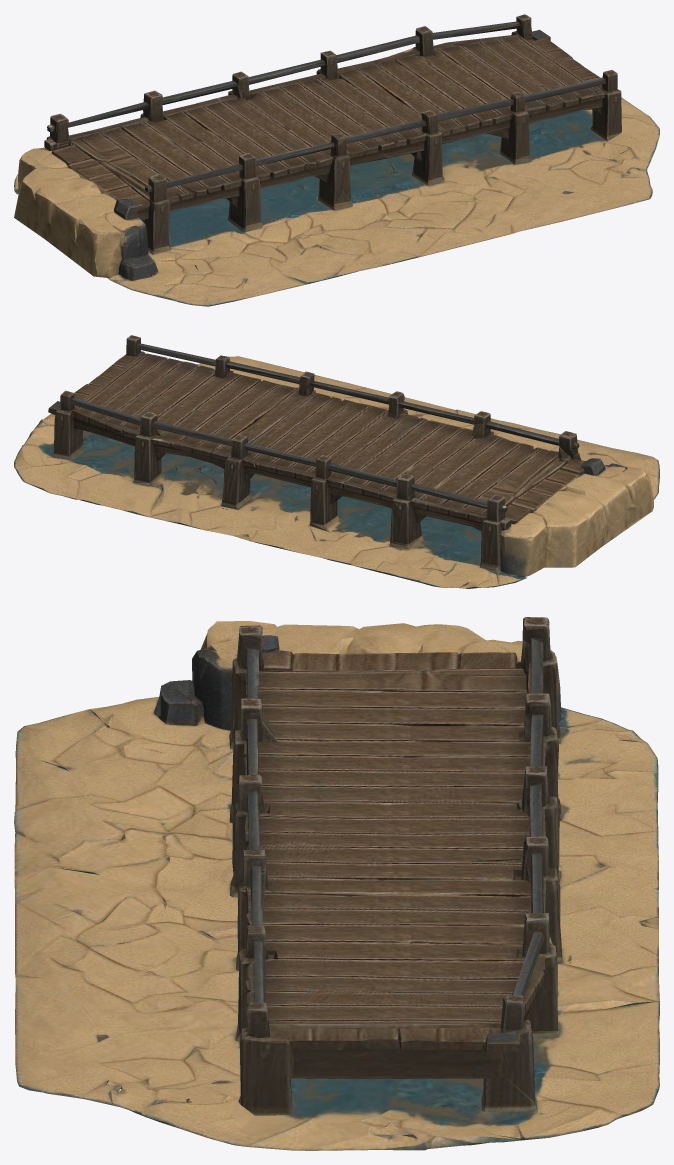
File: boardwalk-bridge.glb
The picture shows the model from 3 angles, top to bottom: view 1: azimuth 30°, elevation 25°; view 2: azimuth 150°, elevation 25°; view 3: azimuth 270°, elevation 25°; orthographic projection. The views are drawn at different scales.
Bounding box in the file's own units: 1.9 × 0.2333 × 1.12.
1 material, 1 textured.
